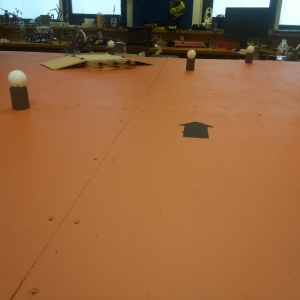obstacle: (8, 70, 32, 110), (185, 49, 197, 72), (245, 46, 256, 64), (107, 38, 115, 53)
side: (89, 59, 136, 69)
slope: (42, 54, 88, 71)
start: (179, 121, 214, 140)
